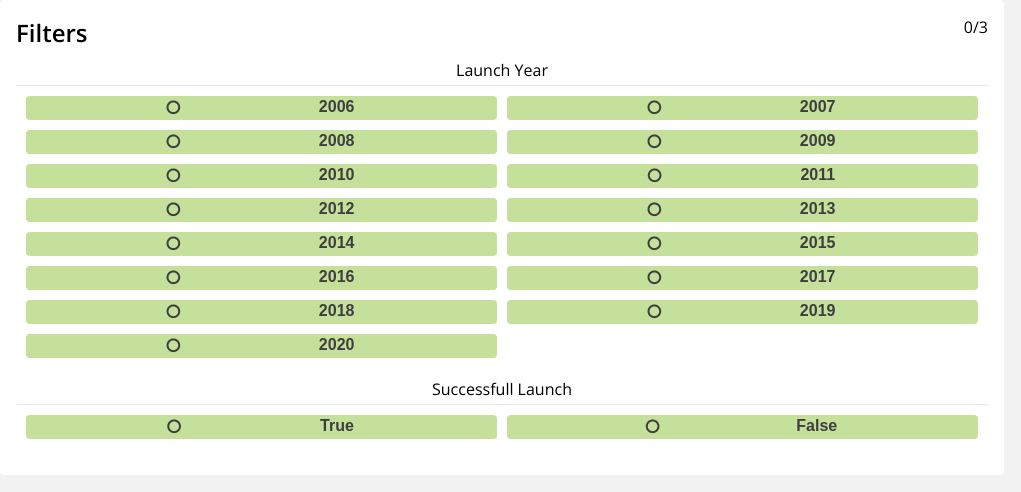
Test: Year Filter clicked who have data
Expected: the text "2006" is shown, 319,98 -> 354,116
// executing click event
Click the button "2006": (337, 106) 26,96 -> 497,120
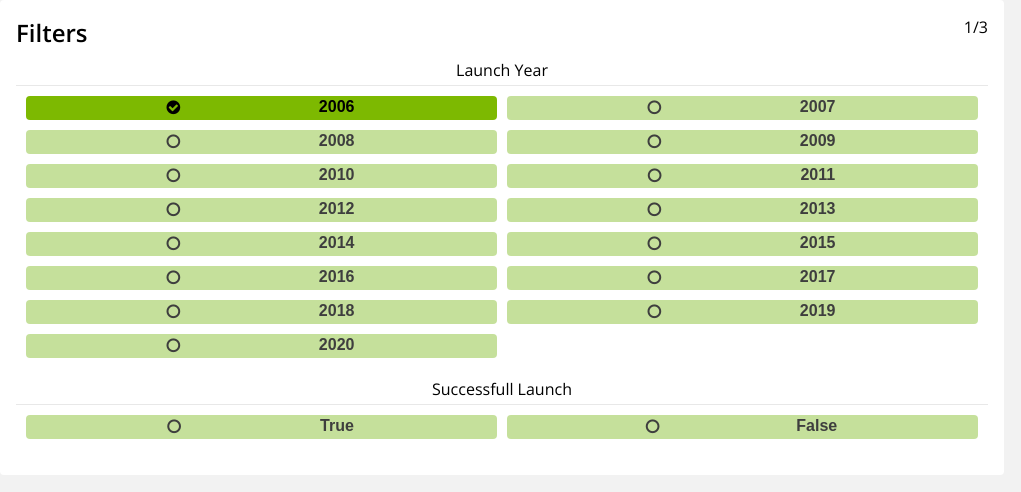
Now the text "1/3" is shown, box 964,16 -> 988,49
Click the button "2006": (337, 106) 26,96 -> 497,120
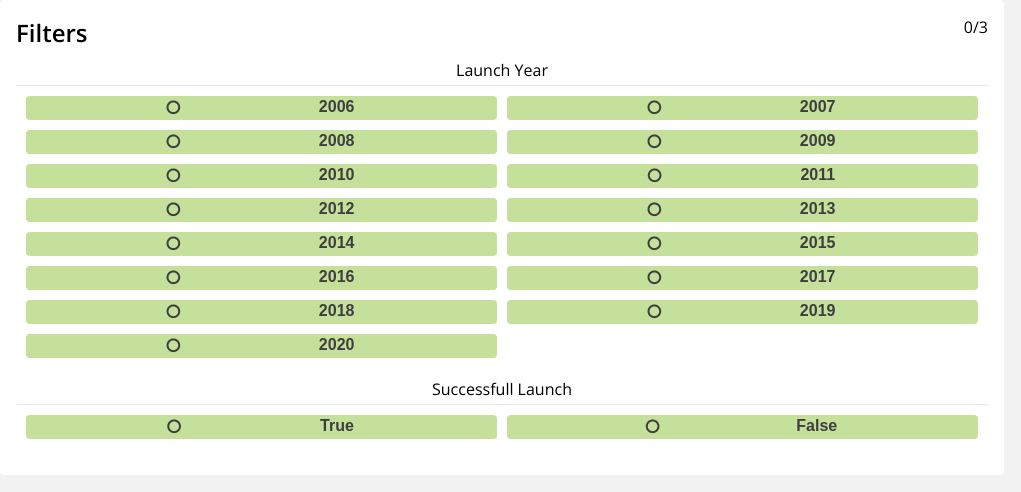
Now the text "0/3" is shown, box 964,16 -> 988,49
